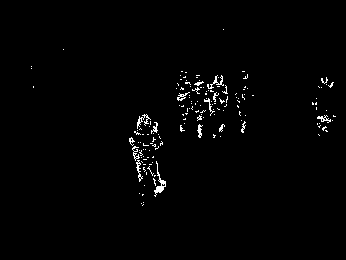person: (129, 112, 167, 200), (190, 74, 211, 141), (209, 72, 229, 135), (314, 74, 334, 137), (236, 69, 254, 135), (176, 69, 192, 132)
